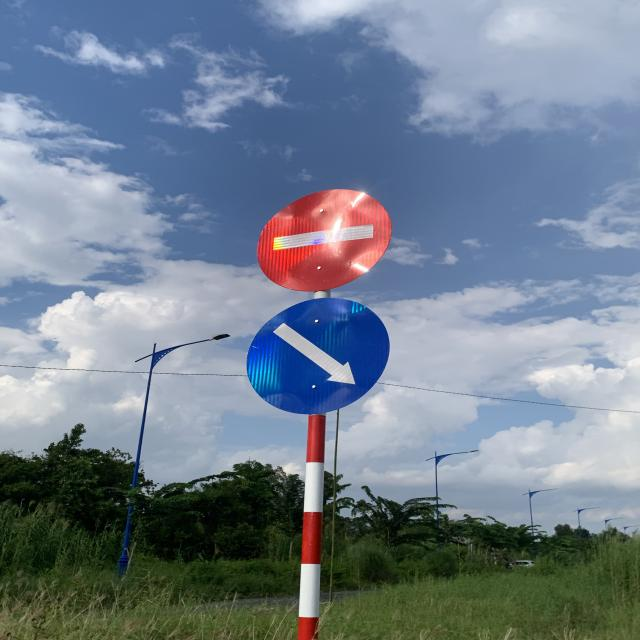Cam_Di_Nguoc_Chieu: (256, 186, 394, 296)
Chi_Huong_Di_Phai: (242, 298, 392, 416)
